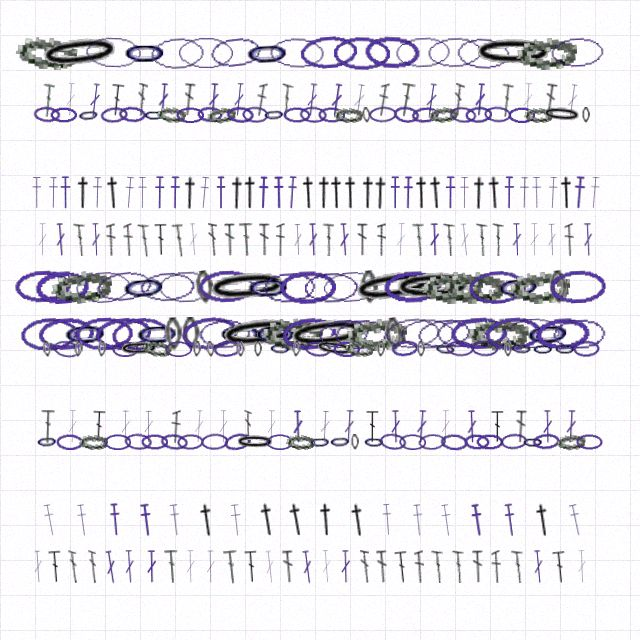chain: (350, 265, 436, 309), (37, 32, 123, 74), (285, 313, 371, 355), (217, 313, 303, 354), (205, 267, 290, 307), (392, 268, 476, 305), (472, 36, 555, 69), (49, 266, 114, 307), (515, 34, 578, 72), (421, 268, 484, 306), (508, 268, 571, 306), (345, 315, 408, 353), (94, 267, 154, 306), (15, 34, 78, 71), (110, 315, 171, 353), (180, 314, 239, 353), (207, 33, 265, 72), (280, 315, 339, 353), (414, 315, 473, 353), (94, 315, 152, 353), (315, 315, 373, 353), (299, 34, 358, 71), (484, 315, 543, 352), (261, 316, 323, 351), (467, 316, 529, 351), (383, 315, 441, 352), (74, 269, 133, 305), (321, 269, 380, 305), (37, 316, 96, 352), (443, 270, 505, 304), (138, 269, 196, 305), (468, 269, 526, 305), (20, 316, 78, 352), (455, 35, 512, 71), (34, 269, 91, 305), (260, 269, 317, 305), (332, 316, 389, 352), (84, 35, 142, 70), (426, 35, 484, 70), (14, 269, 72, 304), (157, 269, 215, 304), (75, 316, 133, 351), (503, 316, 561, 351), (149, 35, 205, 71), (535, 316, 591, 352), (364, 35, 421, 70), (394, 35, 451, 70), (549, 35, 606, 70), (198, 269, 255, 304), (549, 269, 606, 304), (450, 316, 507, 351), (550, 316, 607, 351), (333, 36, 391, 70), (383, 270, 441, 304), (434, 316, 490, 351), (268, 36, 325, 70), (279, 270, 336, 304), (302, 270, 359, 304), (177, 36, 235, 69), (197, 317, 253, 351), (399, 317, 455, 351), (494, 268, 543, 305), (524, 315, 572, 352), (120, 269, 168, 305), (62, 316, 109, 351), (134, 316, 181, 351), (244, 36, 291, 70), (245, 270, 292, 304), (122, 36, 168, 69), (218, 317, 264, 350), (253, 317, 299, 350), (314, 338, 355, 359), (541, 105, 582, 124), (194, 270, 215, 304), (384, 317, 404, 351), (119, 340, 159, 357), (360, 270, 379, 304), (549, 270, 568, 304), (164, 317, 183, 351), (235, 434, 275, 450), (206, 105, 237, 125), (223, 431, 252, 452), (182, 317, 200, 350), (52, 339, 81, 359), (428, 105, 458, 124), (142, 339, 172, 358), (213, 339, 242, 358), (556, 433, 586, 451), (391, 339, 419, 358), (379, 432, 407, 451), (393, 105, 420, 124), (100, 106, 128, 124), (411, 106, 439, 124), (449, 106, 477, 124), (304, 340, 332, 358), (160, 433, 188, 451), (418, 433, 446, 451), (440, 433, 468, 451), (157, 106, 186, 123), (345, 340, 374, 357), (33, 106, 61, 123), (118, 106, 146, 123), (226, 106, 254, 123), (299, 106, 327, 123), (369, 106, 397, 123), (446, 340, 474, 357), (124, 433, 152, 450), (500, 433, 528, 450), (532, 433, 560, 450), (334, 107, 363, 123), (524, 107, 553, 123), (79, 434, 108, 450), (286, 434, 315, 450), (242, 106, 269, 123), (465, 106, 492, 123), (484, 106, 511, 123), (471, 340, 498, 357), (573, 340, 600, 357), (201, 433, 228, 450), (176, 107, 204, 123), (266, 434, 294, 450), (197, 106, 223, 123), (50, 107, 77, 123), (283, 107, 310, 123), (318, 107, 345, 123), (508, 107, 535, 123), (112, 341, 139, 357), (165, 341, 192, 357), (333, 341, 360, 357), (56, 434, 83, 450), (104, 434, 131, 450), (141, 434, 168, 450), (177, 434, 204, 450), (399, 434, 426, 450), (476, 434, 503, 450), (576, 434, 603, 450), (464, 434, 490, 450), (77, 106, 100, 124), (434, 340, 457, 358), (510, 340, 533, 357), (263, 106, 285, 123), (269, 340, 291, 357), (36, 433, 58, 450), (329, 433, 351, 450), (143, 107, 165, 123), (532, 341, 554, 357), (554, 341, 576, 357), (309, 434, 331, 450), (363, 434, 385, 450), (522, 434, 544, 450), (42, 341, 52, 357), (362, 107, 371, 123), (74, 341, 83, 357), (206, 341, 215, 357), (236, 341, 245, 357), (292, 341, 301, 357), (582, 107, 590, 123), (98, 341, 106, 357), (193, 341, 201, 357), (254, 341, 262, 357), (377, 341, 385, 357), (417, 341, 425, 357), (504, 341, 512, 357), (351, 434, 359, 450)
double: (397, 83, 416, 117), (223, 550, 240, 584), (109, 83, 125, 117), (498, 83, 514, 117), (103, 550, 119, 584), (394, 550, 410, 584), (552, 550, 568, 584), (164, 550, 180, 583), (40, 83, 55, 117), (279, 83, 294, 117), (329, 83, 344, 117), (352, 83, 367, 117), (424, 83, 439, 117), (543, 83, 558, 117), (565, 83, 580, 117), (137, 223, 152, 257), (171, 223, 186, 257), (300, 550, 315, 584), (239, 223, 254, 256), (48, 550, 63, 583), (244, 550, 259, 583), (88, 83, 102, 117), (305, 83, 319, 117), (451, 83, 465, 117), (263, 550, 277, 584), (182, 83, 196, 116), (232, 83, 246, 116), (473, 83, 487, 116), (73, 223, 87, 256), (154, 223, 168, 256), (458, 223, 472, 256), (41, 410, 55, 443), (92, 410, 106, 443), (431, 550, 445, 583), (511, 550, 525, 583), (64, 83, 77, 116), (135, 83, 148, 116), (157, 83, 170, 116), (207, 83, 220, 116), (255, 83, 268, 116), (377, 83, 390, 116), (54, 223, 67, 256), (187, 223, 200, 256), (338, 223, 351, 256), (412, 223, 425, 256), (443, 223, 456, 256), (366, 410, 379, 443), (415, 410, 428, 443), (491, 410, 504, 443), (123, 550, 136, 583), (282, 550, 295, 583), (320, 550, 333, 583), (376, 550, 389, 583), (452, 550, 465, 583), (532, 550, 545, 583), (522, 83, 534, 116), (90, 223, 102, 256), (224, 223, 236, 256), (292, 223, 304, 256), (307, 223, 319, 256), (322, 223, 334, 256), (395, 223, 407, 256), (476, 223, 488, 256), (492, 223, 504, 256), (511, 223, 523, 256), (546, 223, 558, 256), (582, 223, 594, 256), (193, 410, 205, 443), (292, 410, 304, 443), (319, 410, 331, 443), (343, 410, 355, 443), (466, 410, 478, 443), (515, 410, 527, 443), (565, 410, 577, 443), (32, 550, 44, 583), (472, 550, 484, 583), (576, 550, 588, 583), (37, 223, 48, 256), (123, 223, 134, 256), (259, 223, 270, 256), (357, 223, 368, 256), (429, 223, 440, 256), (529, 223, 540, 256), (564, 223, 575, 256), (67, 410, 78, 443), (120, 410, 131, 443), (143, 410, 154, 443), (218, 410, 229, 443), (266, 410, 277, 443), (390, 410, 401, 443), (440, 410, 451, 443), (542, 410, 553, 443), (68, 550, 79, 583), (146, 550, 157, 583), (185, 550, 196, 583), (205, 550, 216, 583), (340, 550, 351, 583), (414, 550, 425, 583), (491, 550, 502, 583), (106, 223, 116, 256), (171, 410, 181, 443), (88, 550, 98, 583), (360, 550, 370, 583), (208, 223, 217, 256), (276, 223, 285, 256), (377, 223, 386, 256), (244, 410, 252, 443)
half_double: (256, 502, 279, 537), (285, 502, 308, 537), (196, 503, 218, 537), (347, 503, 369, 537), (532, 503, 554, 537), (370, 176, 391, 210), (180, 176, 200, 210), (227, 176, 247, 210), (469, 176, 489, 210), (73, 176, 93, 209), (103, 176, 123, 209), (240, 176, 260, 209), (314, 176, 334, 209), (358, 176, 378, 209), (426, 176, 446, 209), (316, 503, 336, 536), (566, 503, 585, 537), (299, 176, 318, 209), (327, 176, 346, 209), (341, 176, 360, 209), (412, 176, 431, 209), (485, 176, 504, 209), (557, 176, 576, 209), (41, 503, 58, 537), (74, 503, 91, 537), (438, 503, 455, 537), (138, 503, 154, 537), (167, 503, 183, 537), (228, 503, 244, 537), (410, 503, 426, 537), (469, 503, 485, 537), (502, 503, 518, 537), (572, 176, 587, 209), (587, 176, 602, 209), (122, 176, 136, 209), (197, 176, 211, 209), (285, 176, 299, 209), (546, 176, 560, 209), (108, 503, 122, 536), (380, 503, 394, 536), (30, 176, 43, 209), (59, 176, 72, 209), (136, 176, 149, 209), (153, 176, 166, 209), (257, 176, 270, 209), (272, 176, 285, 209), (444, 176, 457, 209), (458, 176, 471, 209), (530, 176, 543, 209), (47, 176, 59, 209), (91, 176, 103, 209), (169, 176, 181, 209), (215, 176, 227, 209), (389, 176, 401, 209), (402, 176, 414, 209), (503, 176, 515, 209), (518, 176, 530, 209)
